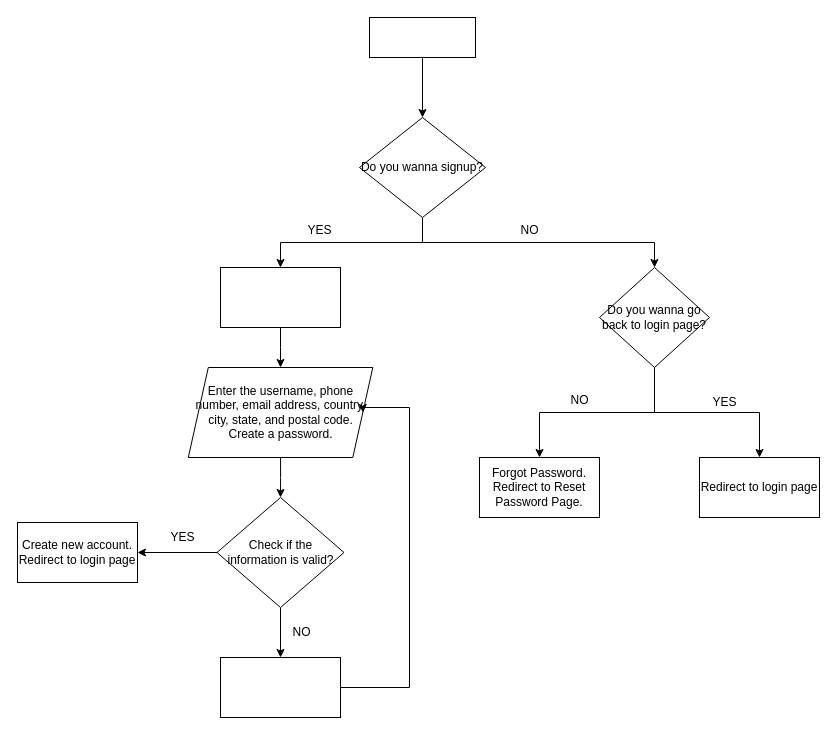
This 837x735 diagram has some shape labels left out. Here are the shapes that lost their labels. From the top down, the centre of each, then its label:
At point (422, 37): "User clicks on Signup Button".
At point (280, 297): "This is the signup page".
At point (280, 687): "Display error message. Prompt user to re-enter the credentials".
